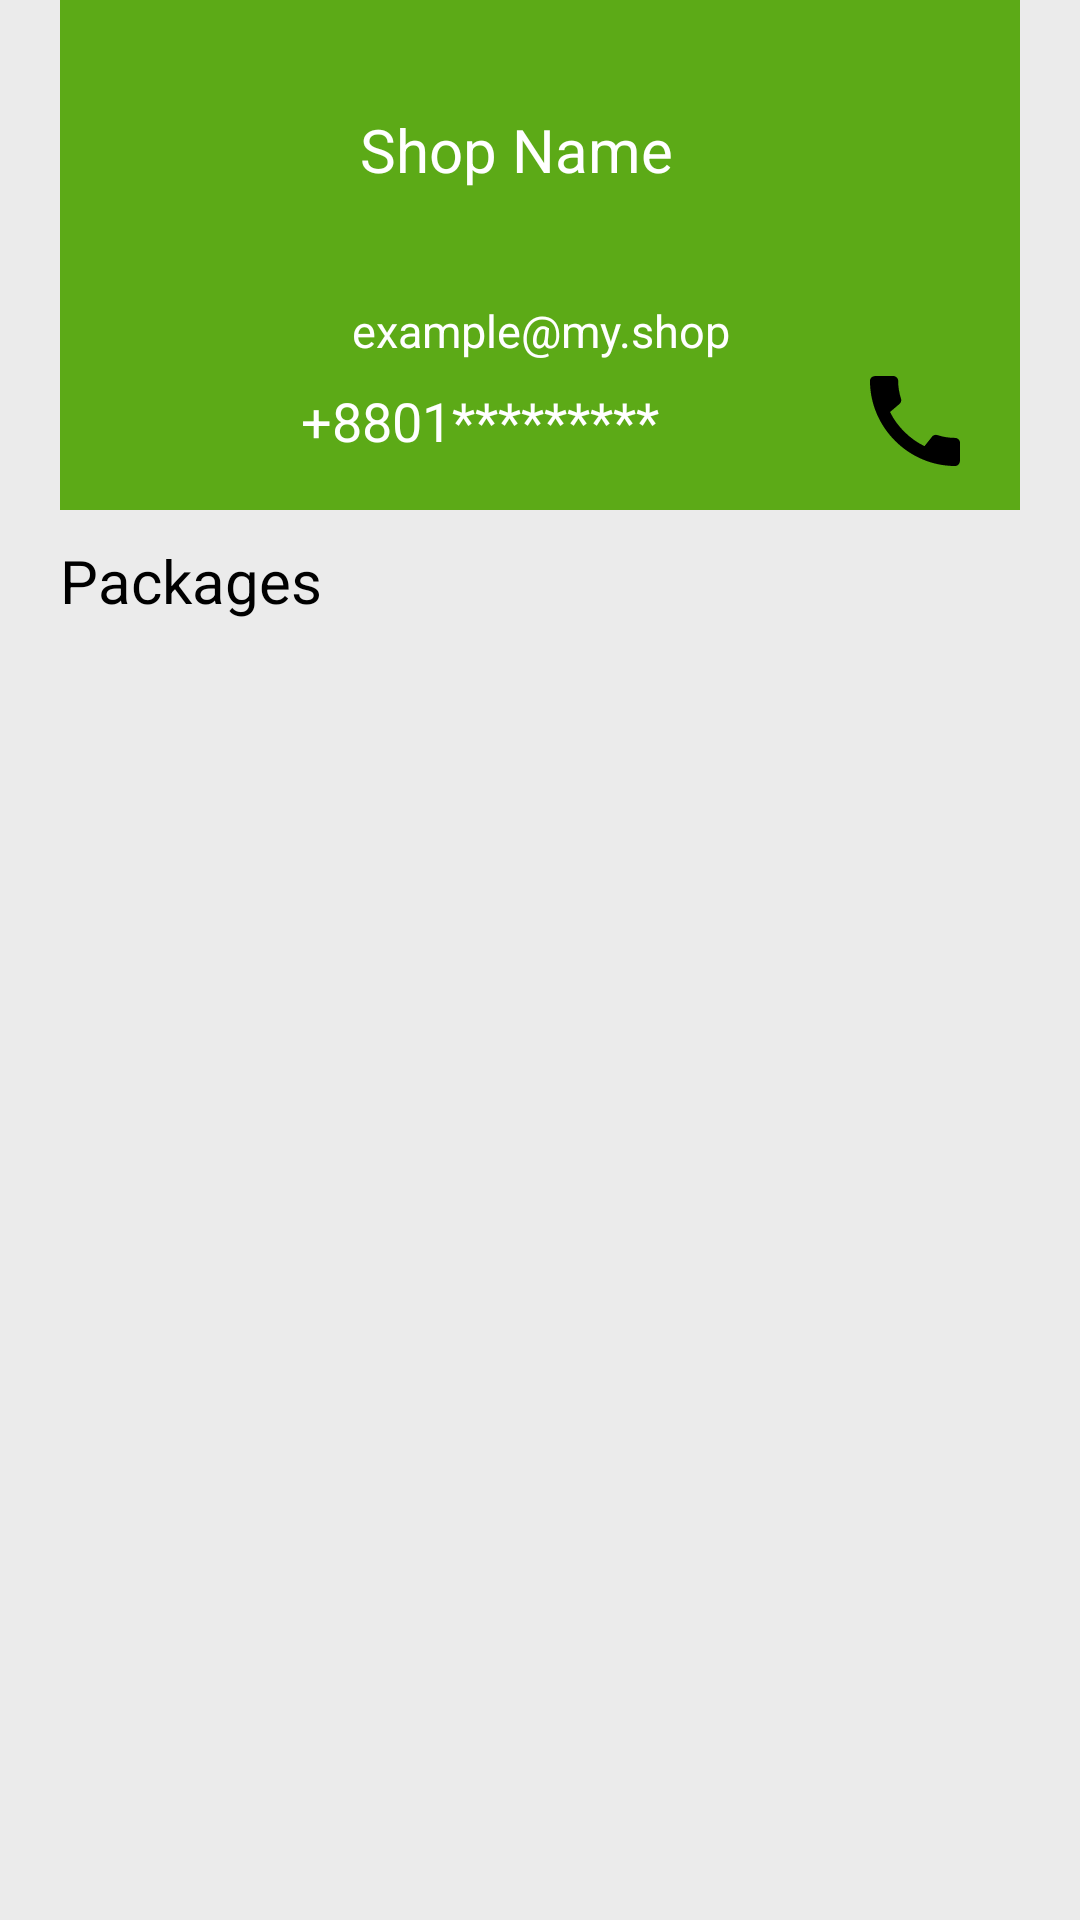

Icons on this 1080 × 1920 Android screen, each with its box as box(x1, y1, x2, y2):
call: box(870, 376, 960, 466)
